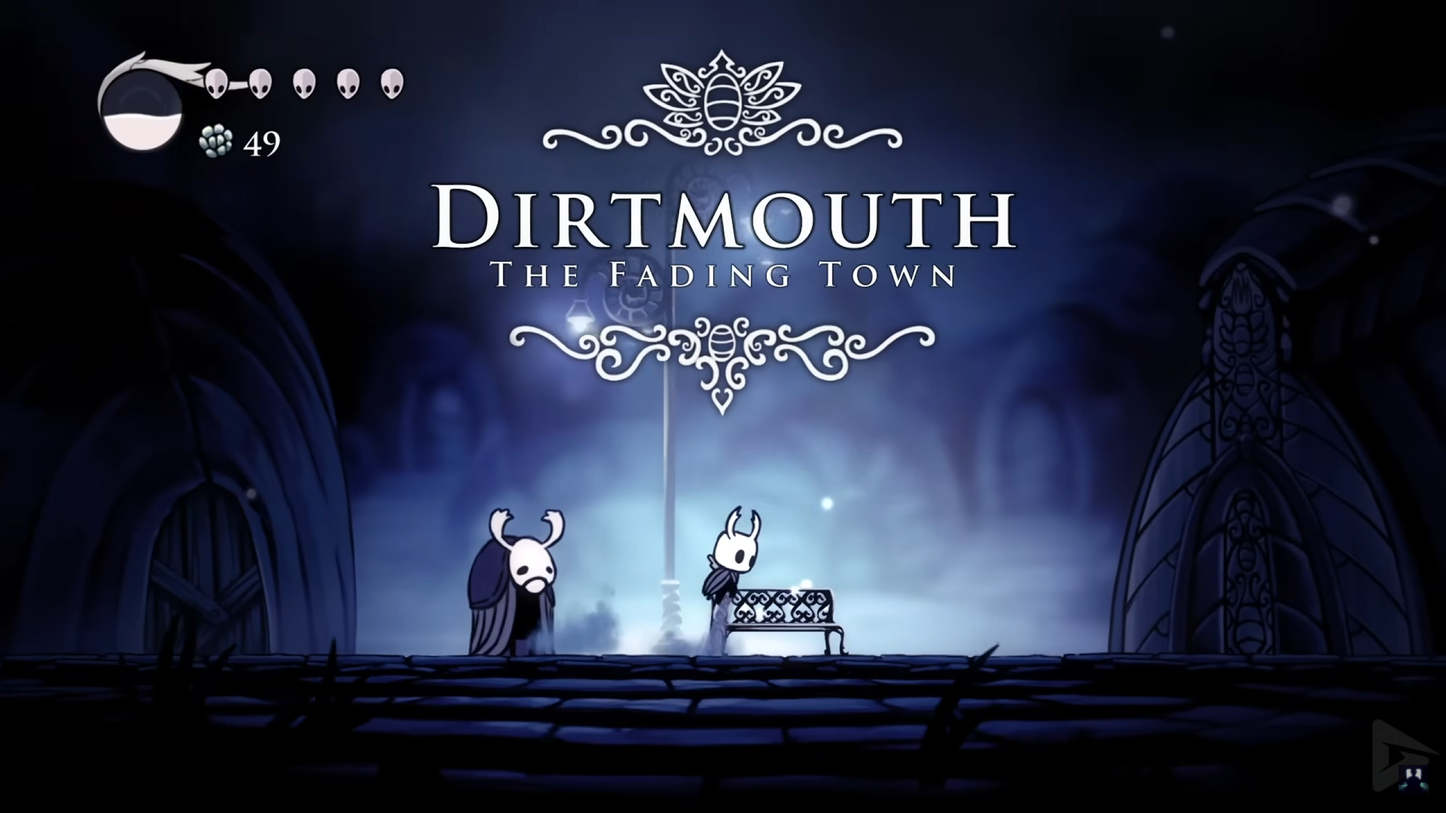HK: (698, 504, 764, 619)
